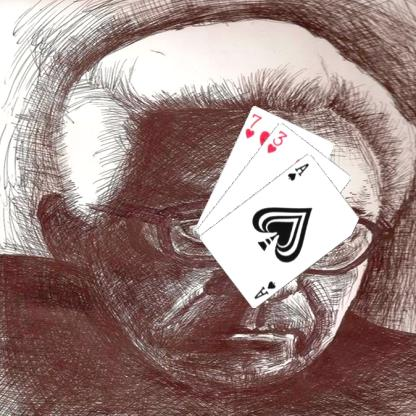3H: (264, 127, 289, 154)
7H: (242, 110, 263, 140)
AS: (284, 160, 310, 182), (251, 278, 277, 300)
